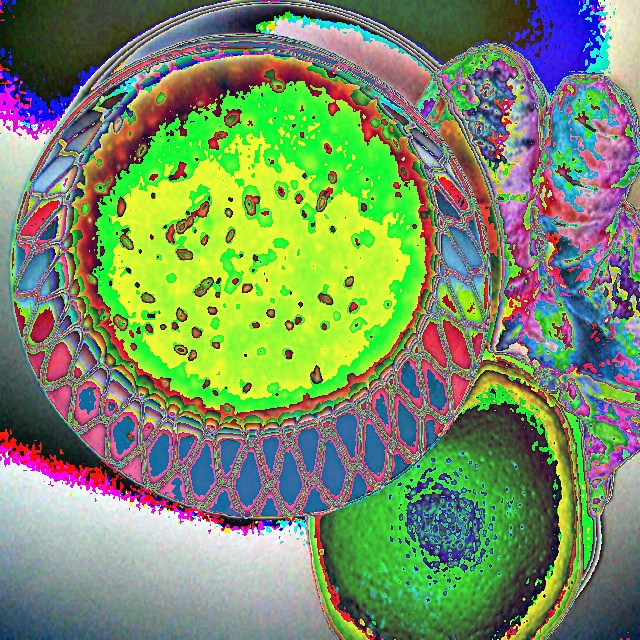background: (308, 47, 639, 639), (64, 50, 441, 438)
